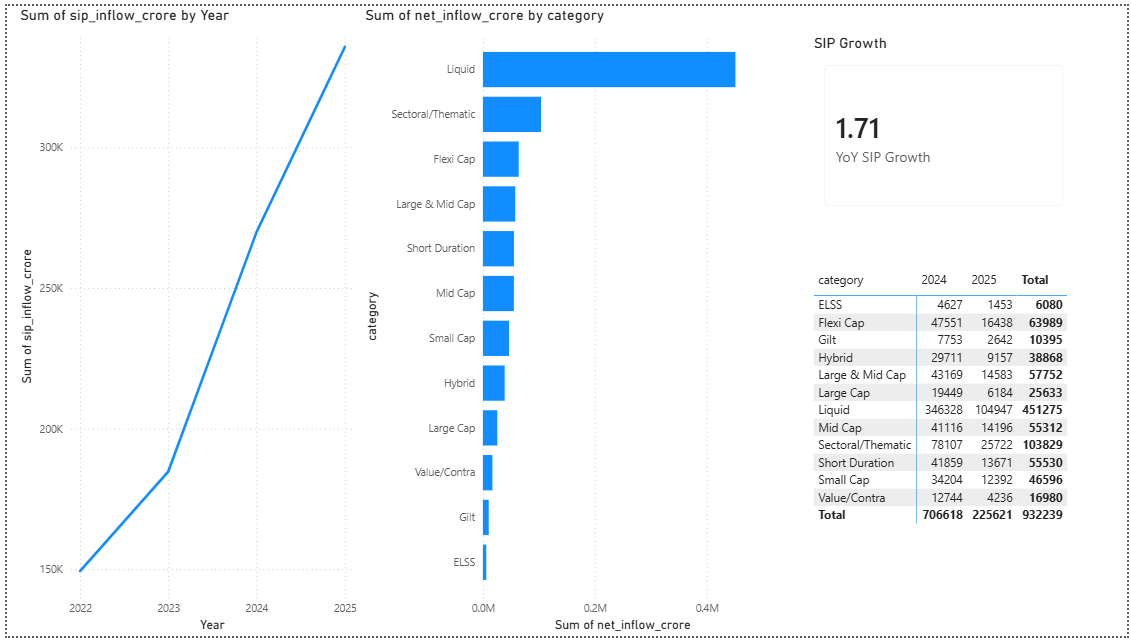

Layout of this report page (visuals, bound fields, positions):
{"tool":"powerbi","page":{"name":"SIP & Market Trends","canvas":[1280,720],"ordinal":3},"visuals":[{"type":"lineChart","fields":{"Category":["clean_monthly_sip_inflows.month.Variation.Date Hierarchy.Year","clean_monthly_sip_inflows.month.Variation.Date Hierarchy.Quarter","clean_monthly_sip_inflows.month.Variation.Date Hierarchy.Month","clean_monthly_sip_inflows.month.Variation.Date Hierarchy.Day"],"Y":["Sum(clean_monthly_sip_inflows.sip_inflow_crore)"]},"box":[10,0,394.3,720],"z":0},{"type":"barChart","fields":{"Y":["Sum(clean_category_inflows.net_inflow_crore)"],"Category":["clean_category_inflows.category"]},"box":[404.3,0,478.6,720],"z":1},{"type":"pivotTable","fields":{"Rows":["clean_category_inflows.category"],"Columns":["clean_category_inflows.month.Variation.Date Hierarchy.Year","clean_category_inflows.month.Variation.Date Hierarchy.Quarter","clean_category_inflows.month.Variation.Date Hierarchy.Month","clean_category_inflows.month.Variation.Date Hierarchy.Day"],"Values":["Sum(clean_category_inflows.net_inflow_crore)"]},"box":[917.1,297.1,307.1,305.7],"z":2},{"type":"cardVisual","title":"SIP Growth","fields":{"Data":["alpha_beta.YoY SIP Growth"]},"box":[917.1,31.4,307.1,214.3],"z":3}]}

Visuals, with their boxes in screenshot pixels (x1, y1, x2, y2), scaled from the page's 1280x720 canvas onto the 1131x640 screenshot:
lineChart - clean_monthly_sip_inflows.month.Variation.Date Hierarchy.Year x clean_monthly_sip_inflows.month.Variation.Date Hierarchy.Quarter: 9, 0, 357, 639
barChart - Sum(clean_category_inflows.net_inflow_crore) x clean_category_inflows.category: 357, 0, 780, 639
pivotTable - clean_category_inflows.category x clean_category_inflows.month.Variation.Date Hierarchy.Year: 810, 264, 1082, 536
"SIP Growth" cardVisual: 810, 28, 1082, 218
